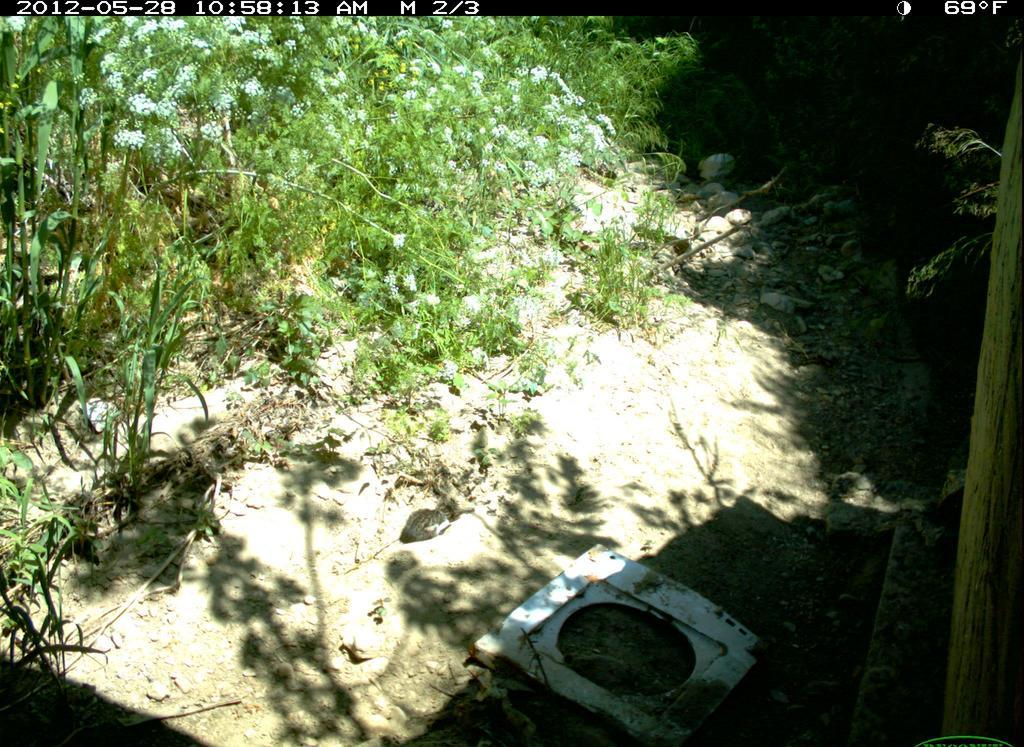cat: (396, 496, 464, 548)
